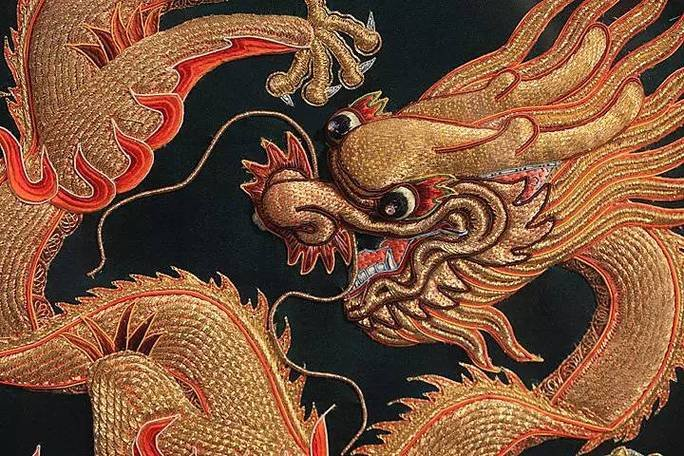dragon: (1, 1, 682, 454)
